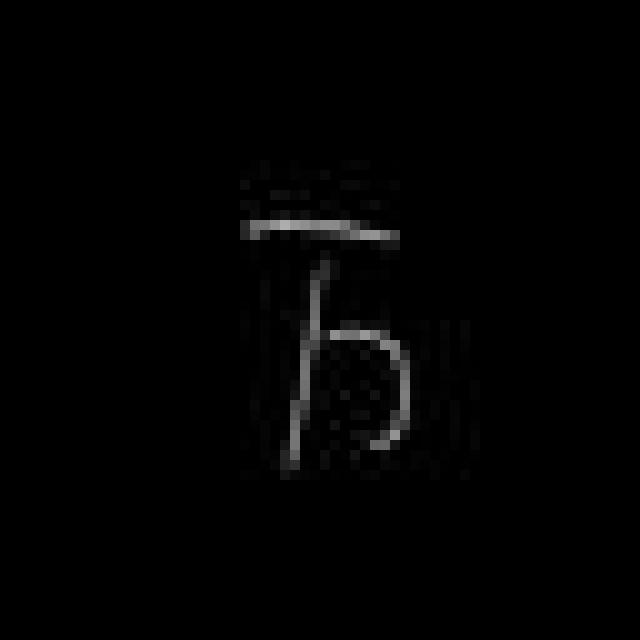10000 -a ten thousand-: (222, 200, 422, 479)
